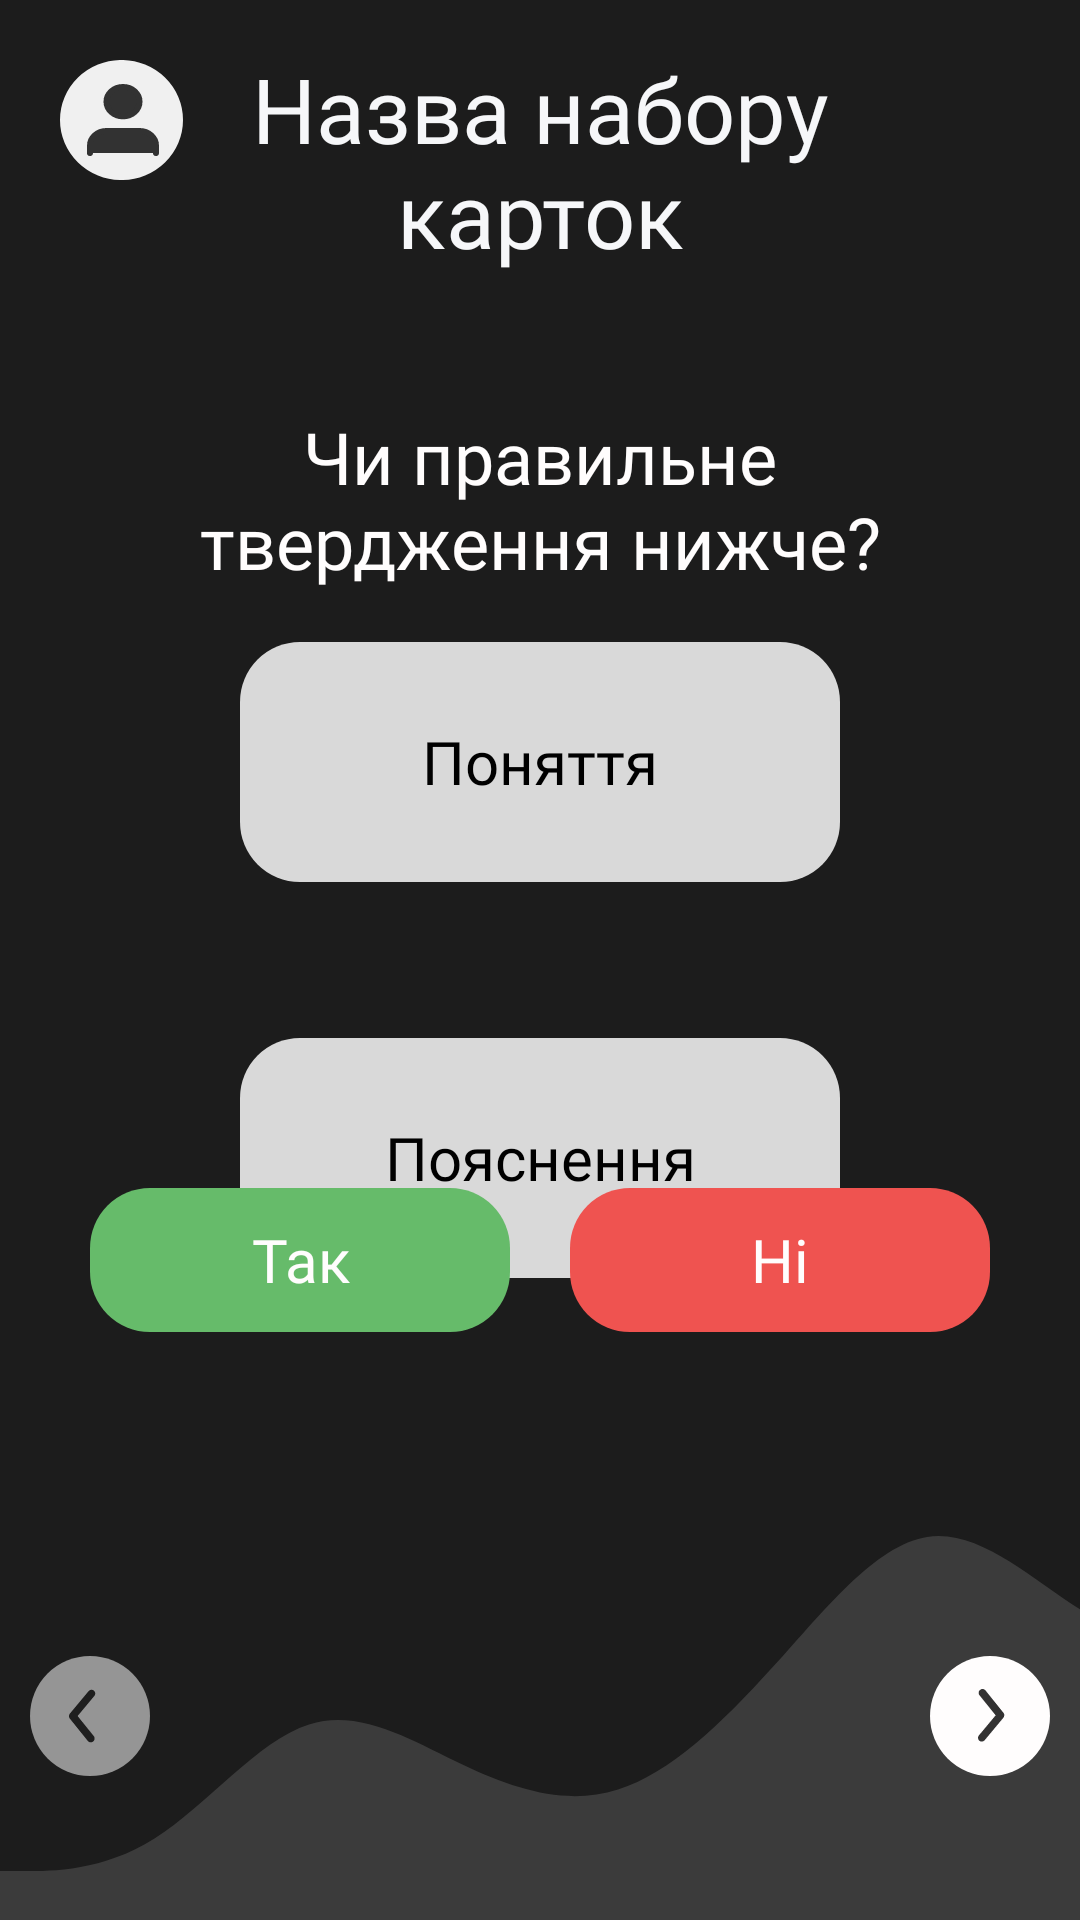

Icon bounding boxes for this 1080 × 1920 phone screenshot, format (x1, y1, x2, y2):
left back pas: (30, 1656, 150, 1776)
Акаунта: (60, 60, 183, 180)
Вперед: (930, 1656, 1050, 1776)
